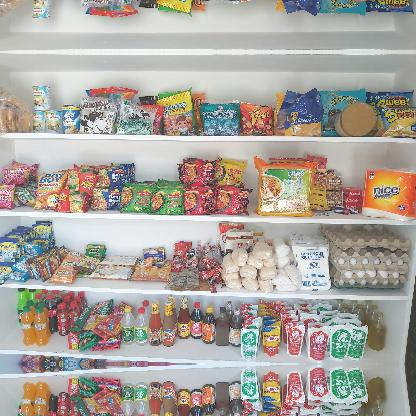Lady-s-Choice: (334, 102, 376, 136)
